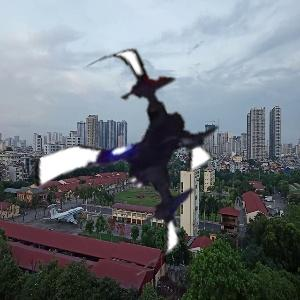drone: (16, 50, 240, 274)
